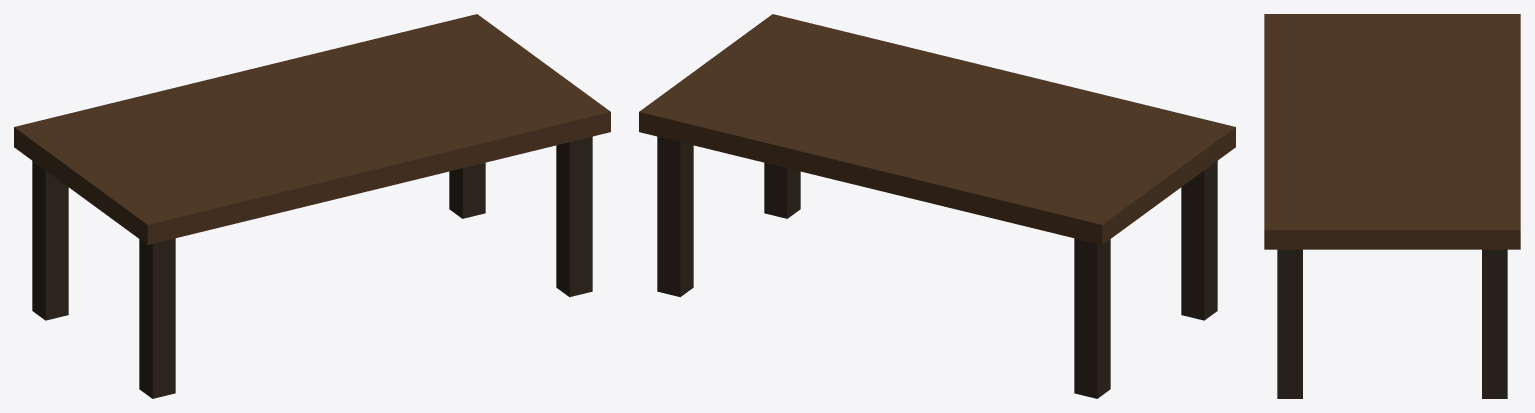
File: prop_coffee_table.glb
The picture shows the model from 3 angles, left to right: view 1: azimuth 30°, elevation 25°; view 2: azimuth 150°, elevation 25°; view 3: azimuth 270°, elevation 25°; orthographic projection. The views are drawn at different scales.
Parts seen in each view (by area): view 1: body; view 2: body; view 3: body.
Boxes of the visible parts, left/top/right/bottom form: body: left=14, top=14, right=610, bottom=398; body: left=639, top=14, right=1235, bottom=398; body: left=1264, top=14, right=1520, bottom=398.
Size of the model in its own units: 1.2 by 0.45 by 0.6.
